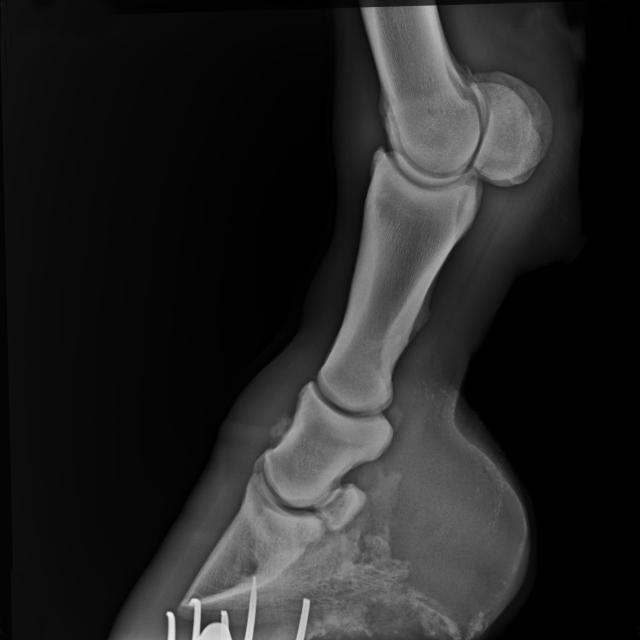joint-ht8A: (331, 26, 581, 259)
